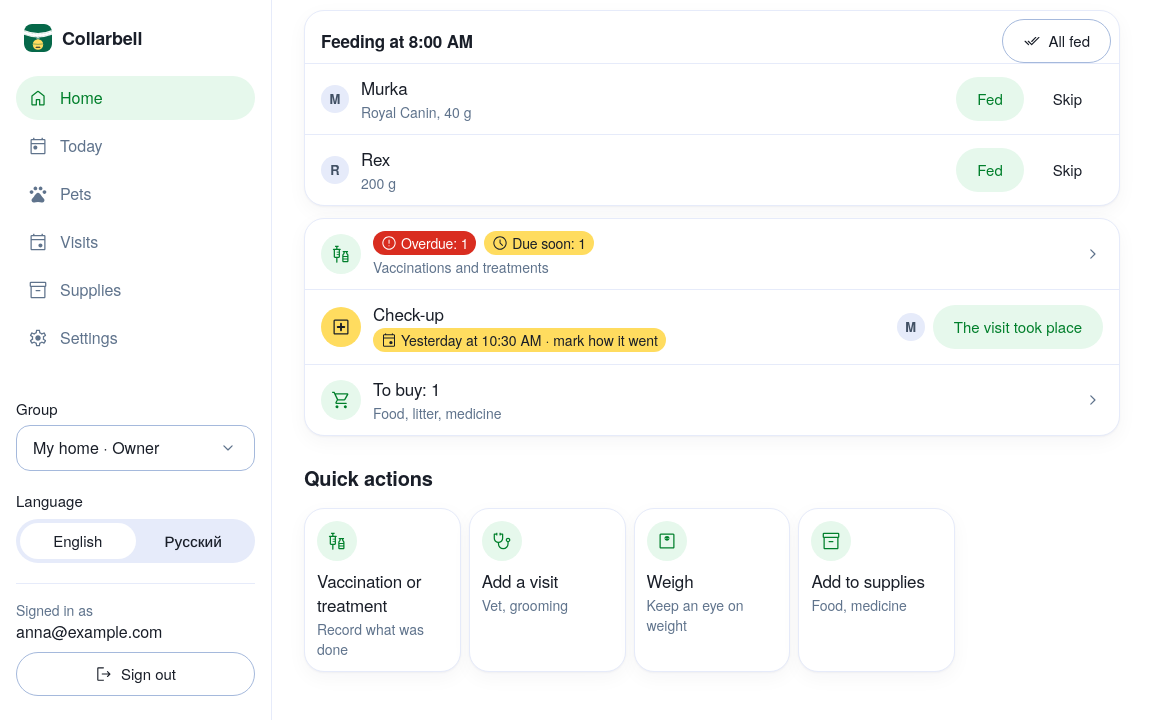
Test: Home › asks which pet to weigh, then opens the weighing for it
(page scrolled)
Click the button "Weigh Keep an eye on weight" at coordinates (712, 590), box [634,508,790,672]
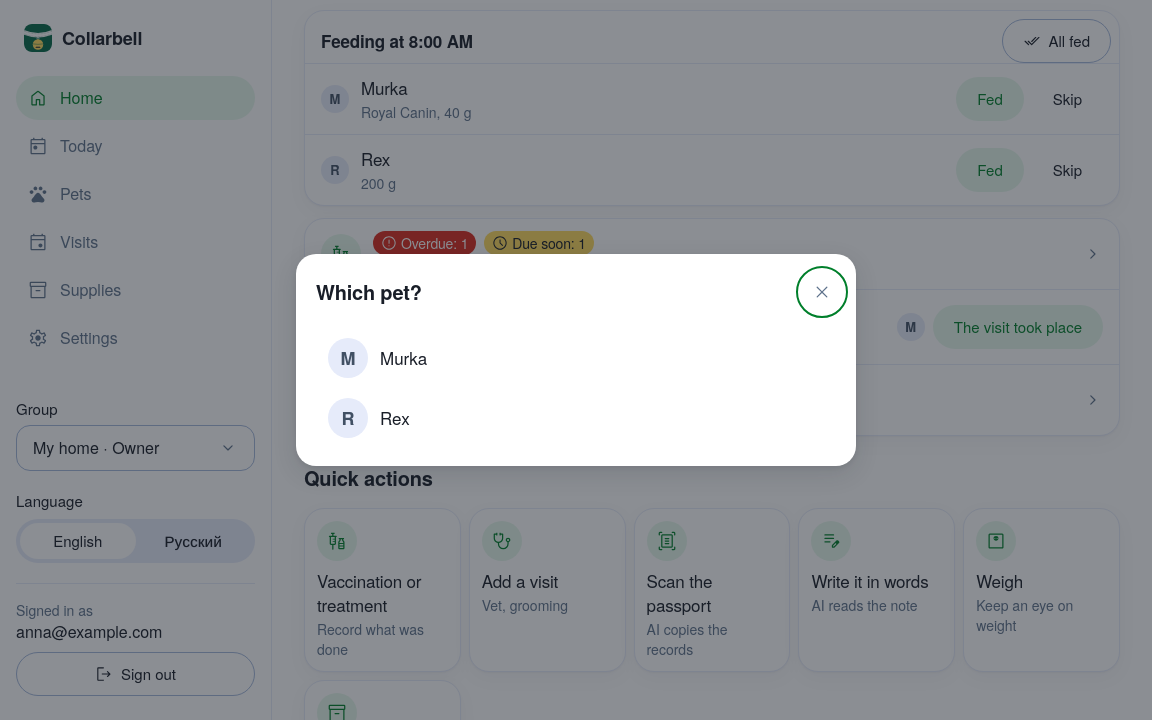
Click the button "M Murka" at coordinates (348, 358), box [316,330,836,386]
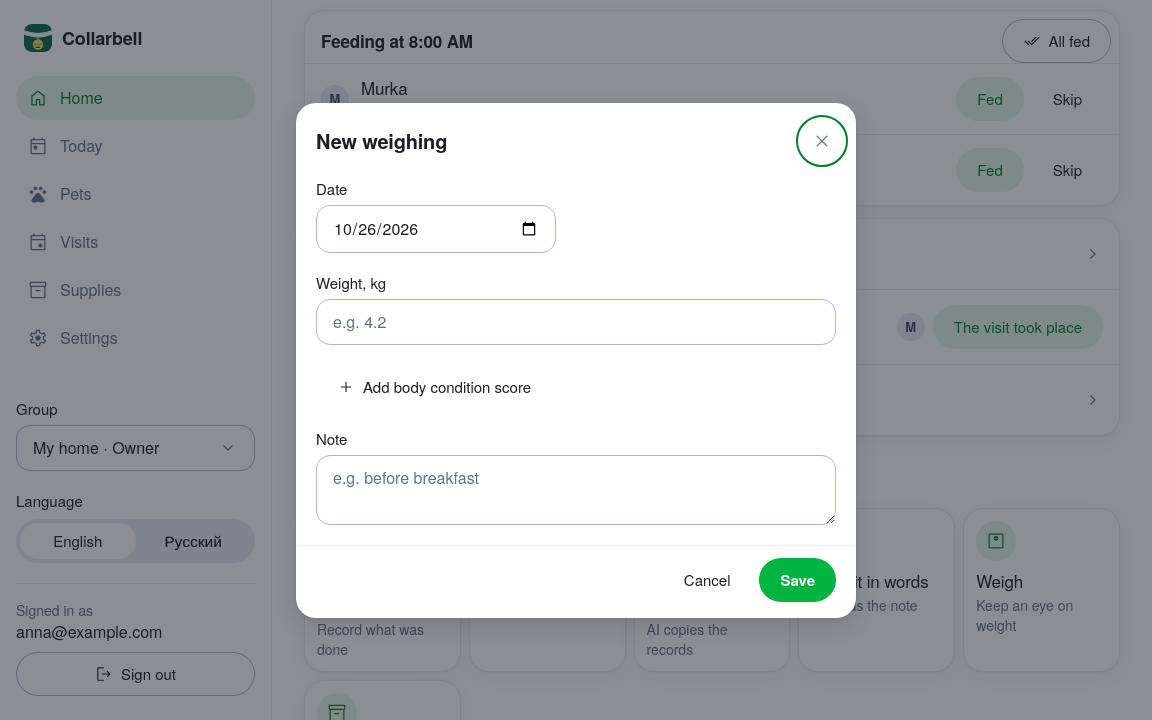
Now the heading "Which pet?" is gone
Now the dialog "New weighing" is shown, box [296,102,856,618]
